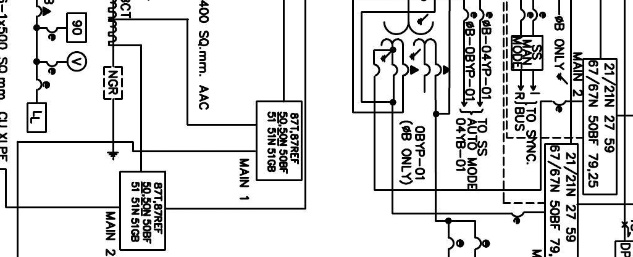115_vt_1p: (380, 13, 450, 77)
LL: (26, 101, 48, 134)
NGR_future: (102, 65, 124, 161)
ss_man_mode: (510, 34, 544, 71)
v_m: (66, 51, 88, 72)
